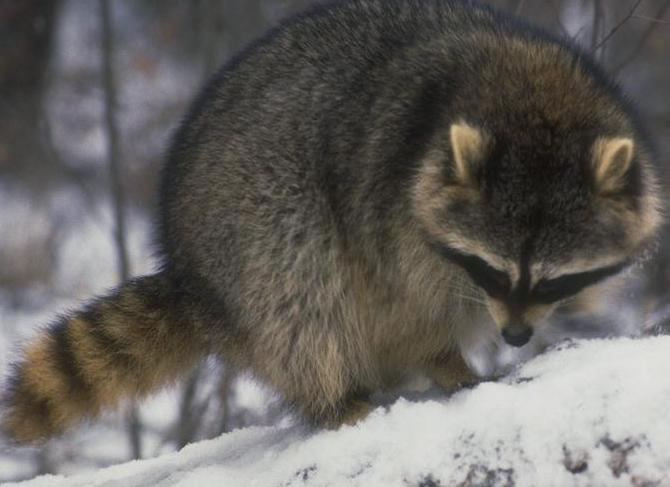raccoon: (6, 4, 658, 462)
